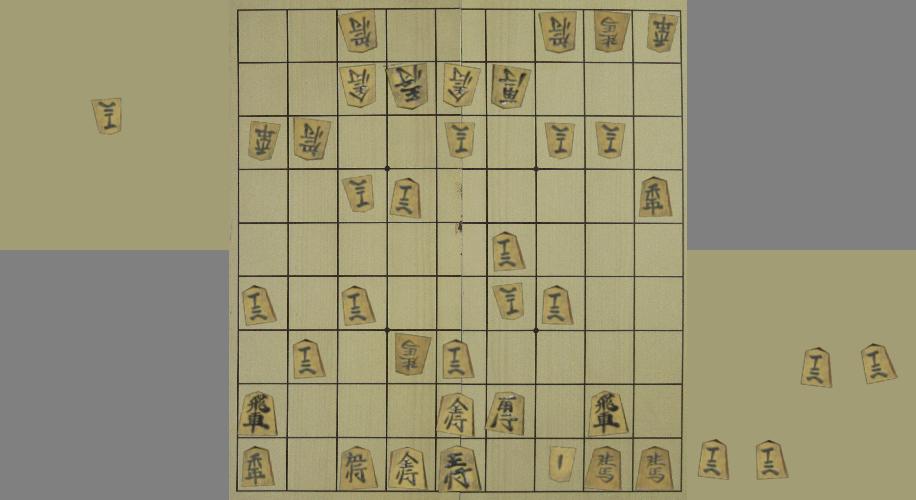A: (435, 443, 484, 495), (336, 442, 385, 491), (584, 388, 630, 440), (238, 386, 283, 439), (483, 389, 532, 437), (636, 444, 678, 493), (339, 284, 382, 330), (388, 447, 431, 492), (633, 175, 676, 220), (389, 176, 430, 223), (586, 445, 627, 492), (239, 444, 279, 492), (490, 227, 530, 274), (436, 391, 476, 438), (437, 337, 477, 384), (240, 285, 283, 328), (290, 337, 329, 382), (540, 283, 578, 328)
B: (384, 62, 435, 111), (335, 8, 383, 56), (533, 9, 580, 56), (389, 328, 431, 380), (590, 7, 634, 56), (289, 115, 332, 165), (336, 63, 382, 109), (488, 63, 531, 112), (439, 61, 482, 109), (243, 119, 285, 163), (591, 118, 627, 162), (441, 117, 477, 160), (647, 9, 679, 57), (342, 173, 378, 215), (541, 119, 577, 159)
C: (791, 344, 836, 393), (751, 438, 795, 486), (695, 437, 737, 485), (856, 341, 896, 389)
D: (88, 93, 133, 137)
